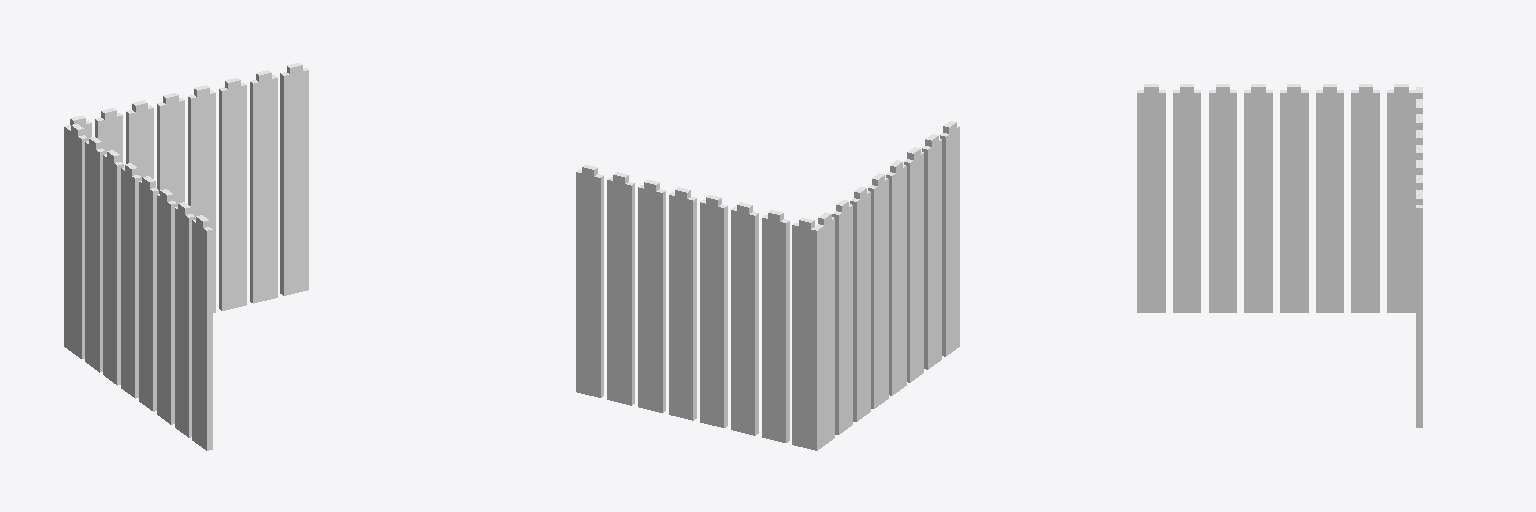
File: fence2.obj
3 renders of one model, left to right at view 1: azimuth 30°, elevation 25°; view 2: azimuth 150°, elevation 25°; view 3: azimuth 270°, elevation 25°, orthographic.
Visible parts, largest first — view 1: object 1; view 2: object 1; view 3: object 1.
Part boxes in pixels (x1,y1,x2,y2): object 1: (64, 63, 308, 450); object 1: (576, 121, 959, 450); object 1: (1137, 84, 1422, 427).
Size of the model in its own units: 3.9 by 3.5 by 4.